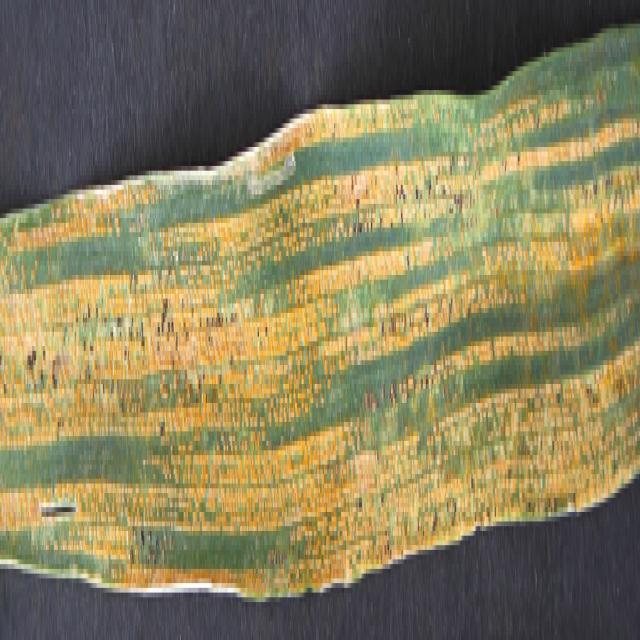leaf rust: (0, 85, 640, 592)
